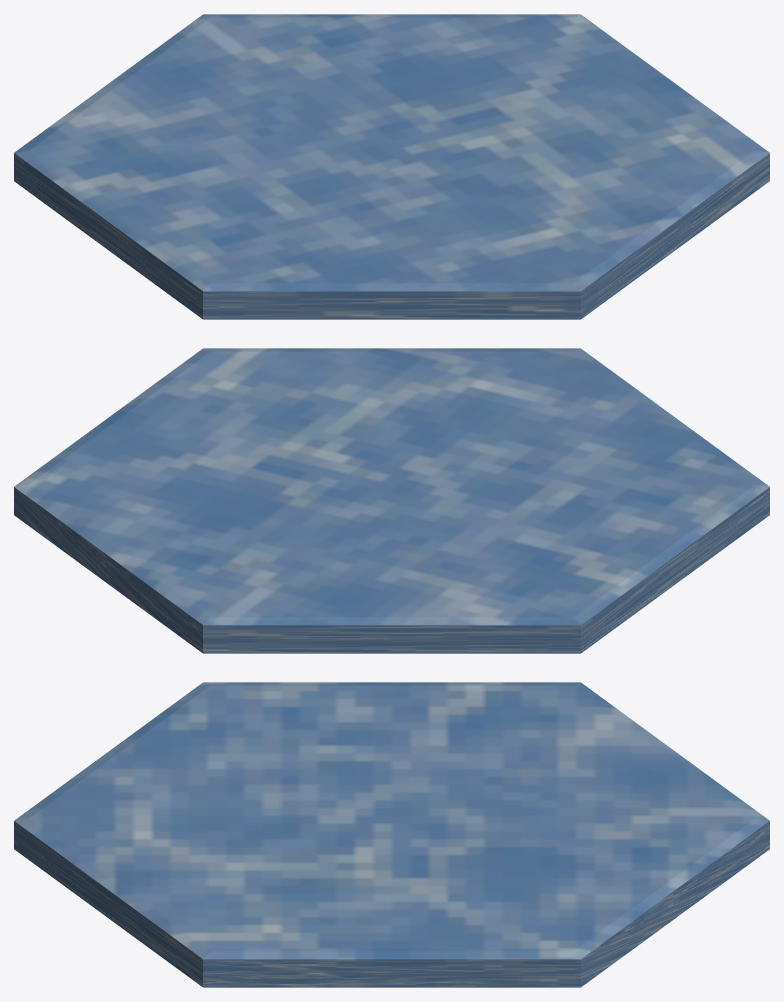
Rendered from Shallow Water.fbx.
3 renders of one model, top to bottom at view 1: azimuth 30°, elevation 25°; view 2: azimuth 150°, elevation 25°; view 3: azimuth 270°, elevation 25°, orthographic.
Visible parts, largest first — view 1: Cylinder.008; view 2: Cylinder.008; view 3: Cylinder.008.
Boxes of the visible parts, bbox=[...] form: Cylinder.008: bbox=[14, 14, 769, 319]; Cylinder.008: bbox=[14, 348, 769, 653]; Cylinder.008: bbox=[14, 682, 769, 987].
Size of the model in its own units: 173 by 8.95 by 200.
1 material, 1 textured.
